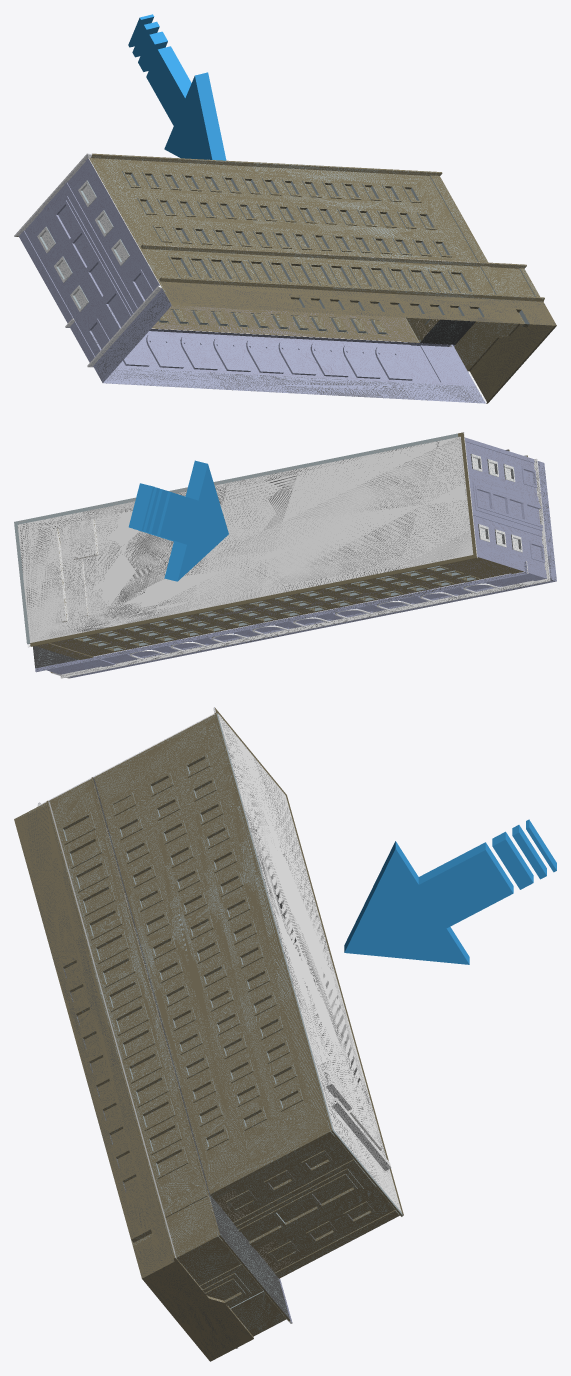
Rendered from Teología.fbx.
3 views of the same model, one above another, from view 1: azimuth 30°, elevation 25°; view 2: azimuth 150°, elevation 25°; view 3: azimuth 270°, elevation 25° (orthographic). The views are drawn at different scales.
Parts seen in each view (by area): view 1: Teologia_1, Arrow; view 2: Teologia_1, Arrow; view 3: Teologia_1, Arrow.
Boxes of the visible parts, x1=… form: Teologia_1: x1=14, y1=153, x2=556, y2=403; Arrow: x1=128, y1=14, x2=226, y2=160; Teologia_1: x1=14, y1=432, x2=556, y2=678; Arrow: x1=128, y1=460, x2=228, y2=581; Teologia_1: x1=14, y1=707, x2=403, y2=1361; Arrow: x1=344, y1=819, x2=556, y2=964.
Size of the model in its own units: 80.44 by 54.89 by 64.43.
